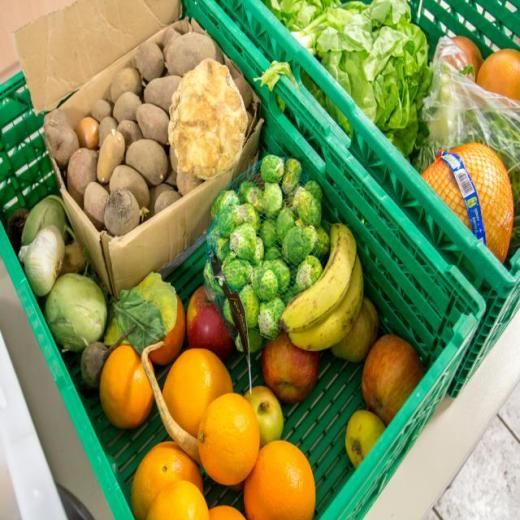Grape: (162, 348, 235, 430), (242, 441, 316, 520), (198, 394, 262, 484), (100, 339, 155, 424), (131, 441, 192, 511), (480, 48, 520, 103), (148, 486, 212, 520), (204, 501, 241, 519)
